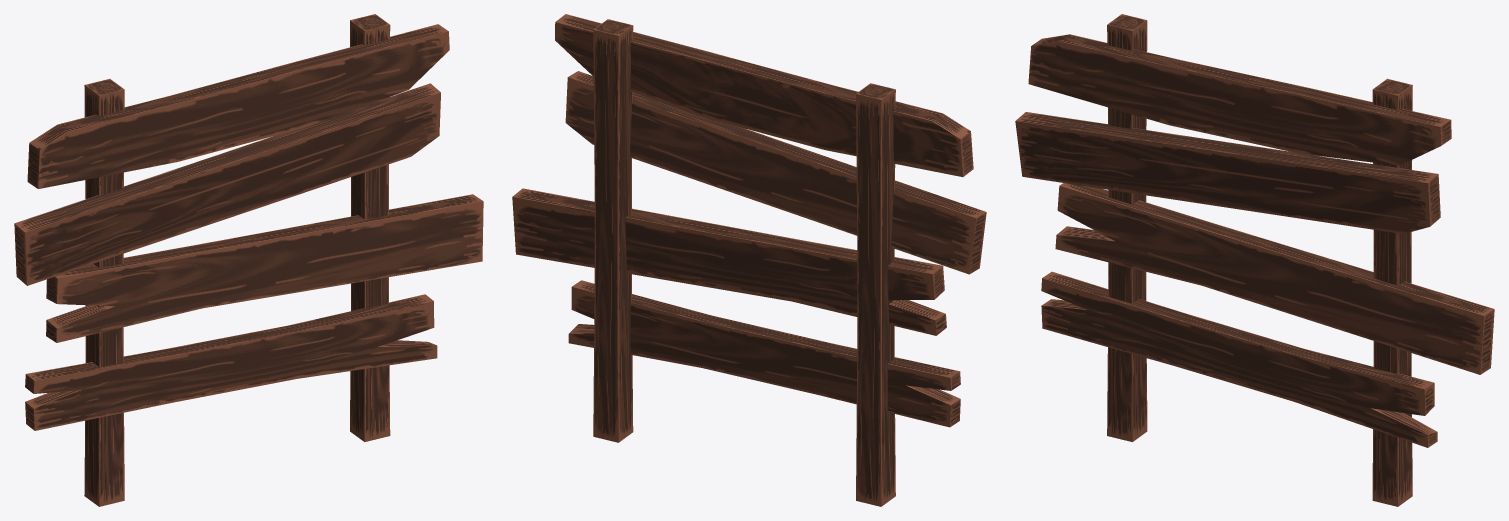
Rendered from Wood_env_2.fbx.
3 renders of one model, left to right at view 1: azimuth 30°, elevation 25°; view 2: azimuth 150°, elevation 25°; view 3: azimuth 330°, elevation 25°, orthographic.
Parts seen in each view (by area): view 1: Wood_env_2; view 2: Wood_env_2; view 3: Wood_env_2.
Part boxes in pixels (x1,y1,x2,y2): Wood_env_2: (14,14,483,506); Wood_env_2: (512,14,986,506); Wood_env_2: (1015,14,1494,506).
Size of the model in its own units: 2.36 by 2 by 0.2224.
